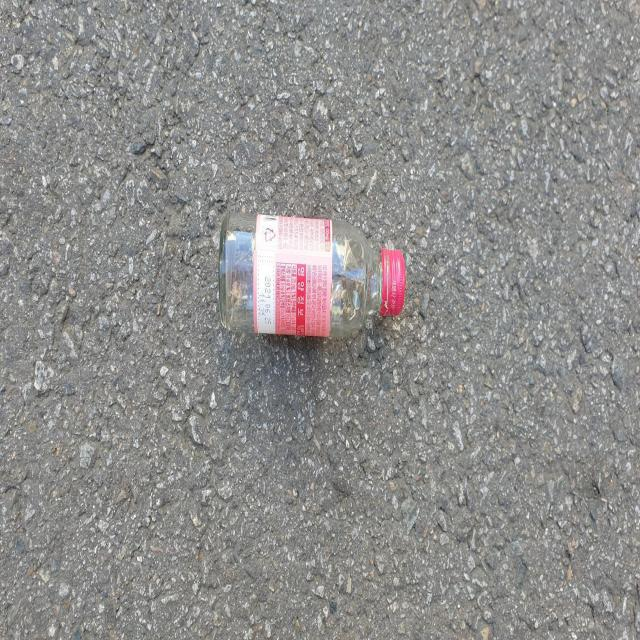glass: (218, 212, 405, 336)
